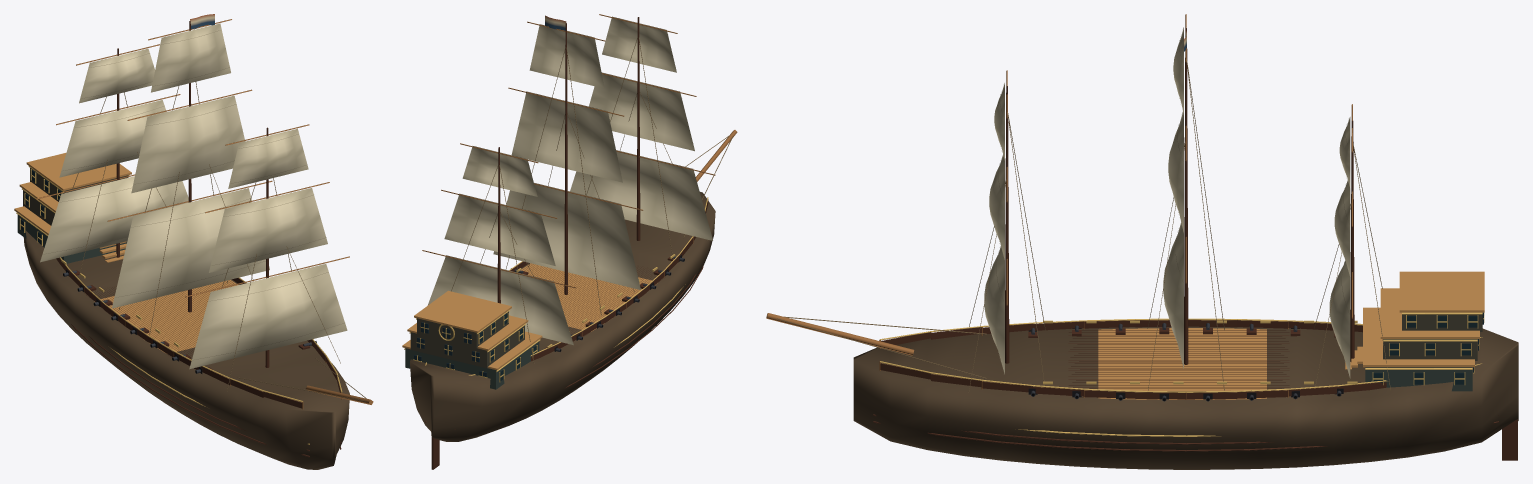
The model's file is heavy-lod1.glb.
The picture shows the model from 3 angles, left to right: view 1: azimuth 30°, elevation 25°; view 2: azimuth 150°, elevation 25°; view 3: azimuth 270°, elevation 25°; orthographic projection. The views are drawn at different scales.
Parts seen in each view (by area): view 1: hull, sail_07, sail_04, sail_05, sail_01, sail_08, sail_02, fittings_deck, sail_06, deck, fittings_wood, sail_09 (+9 smaller); view 2: hull, sail_04, sail_05, sail_07, sail_01, sail_08, fittings_deck, sail_02, fittings_trim, deck, sail_06, sail_09 (+12 smaller); view 3: hull, fittings_deck, deck, fittings_wood, fittings_trim, sail_04, sail_07, sail_01, stern_tier_01_body, stern_tier_02_body, fittings_iron, mast_timber_02 (+6 smaller).
Boxes of the visible parts, x1,y1,x2,y2 form: hull: [23, 230, 349, 469]; sail_07: [189, 264, 347, 369]; sail_04: [112, 188, 269, 308]; sail_05: [131, 95, 245, 193]; sail_01: [40, 176, 188, 262]; sail_08: [209, 188, 327, 272]; sail_02: [59, 100, 166, 177]; fittings_deck: [14, 153, 233, 361]; sail_06: [151, 23, 230, 92]; deck: [94, 280, 237, 353]; fittings_wood: [56, 257, 373, 457]; sail_09: [228, 128, 308, 188]; hull: [410, 192, 715, 441]; sail_04: [493, 183, 640, 289]; sail_05: [511, 91, 622, 182]; sail_07: [570, 150, 712, 240]; sail_01: [427, 255, 573, 345]; sail_08: [589, 72, 694, 151]; fittings_deck: [402, 264, 664, 370]; sail_02: [444, 193, 555, 265]; fittings_trim: [404, 37, 733, 382]; deck: [521, 263, 657, 331]; sail_06: [529, 24, 604, 88]; sail_09: [602, 16, 676, 72]; hull: [853, 326, 1518, 469]; fittings_deck: [1068, 271, 1484, 397]; deck: [1098, 328, 1266, 399]; fittings_wood: [766, 313, 1498, 451]; fittings_trim: [776, 59, 1484, 436]; sail_04: [1163, 222, 1183, 368]; sail_07: [984, 246, 1004, 374]; sail_01: [1329, 260, 1350, 378]; stern_tier_01_body: [1365, 367, 1472, 391]; stern_tier_02_body: [1383, 339, 1477, 360]; fittings_iron: [1028, 312, 1483, 399]; mast_timber_02: [1184, 28, 1188, 364].
Bounding box in the file's own units: 17.19 × 37.6 × 58.83.
